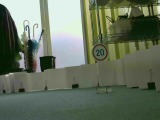speed_20: (91, 44, 109, 61)
